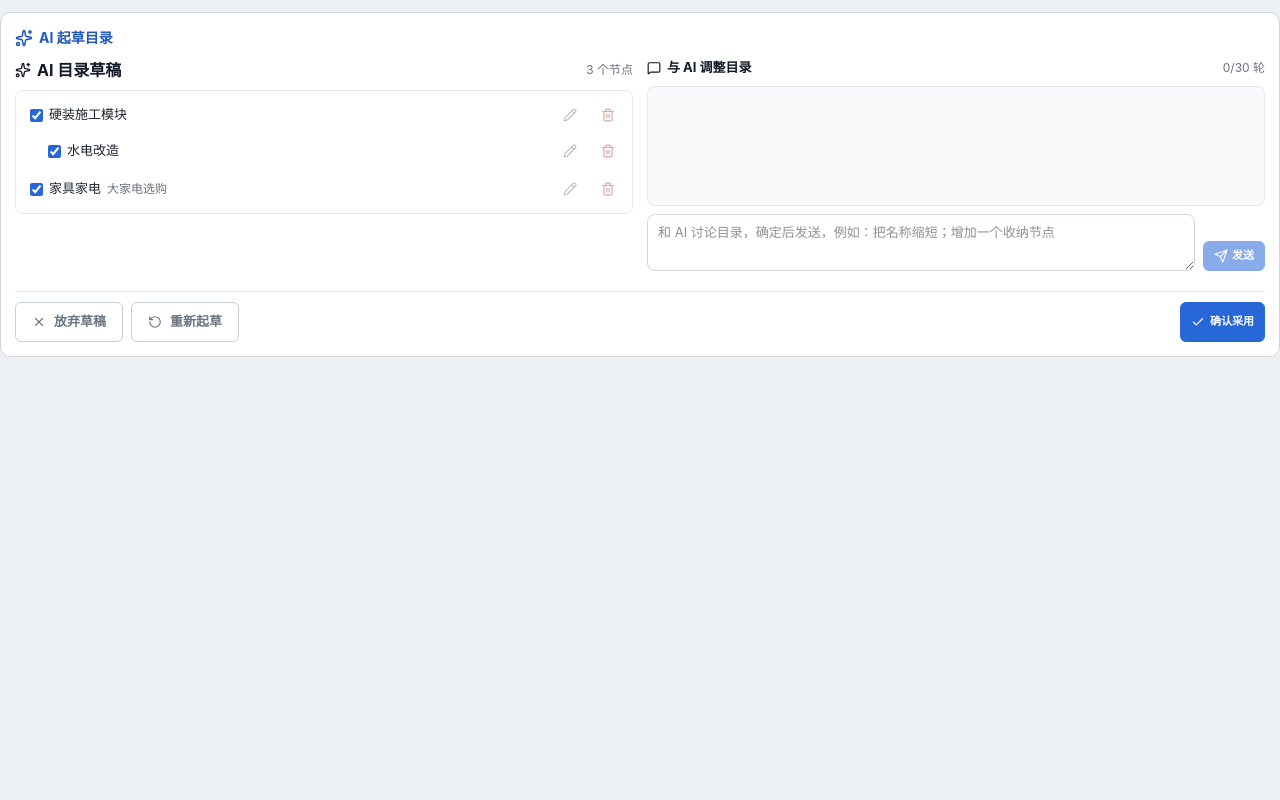
Test: DraftPanel › sends a chat message via the messages endpoint and confirms the draft
Type "把名称缩短" into the text box with placeholder "和 AI 讨论目录，确定后发送，例如：把名称缩短；增加一个收纳节点" at (921, 242), box [647,214,1195,270]
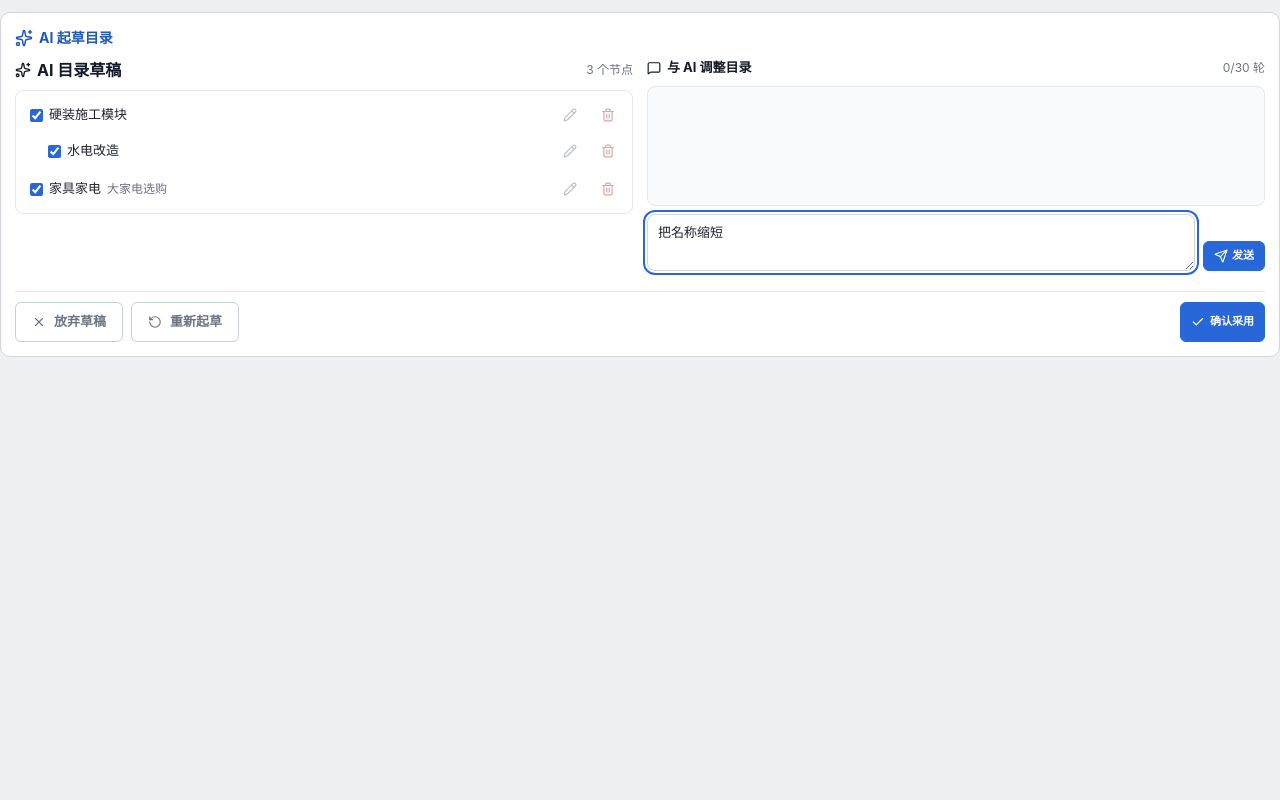
Click the button "发送" at (1234, 256), box [1203,240,1265,270]
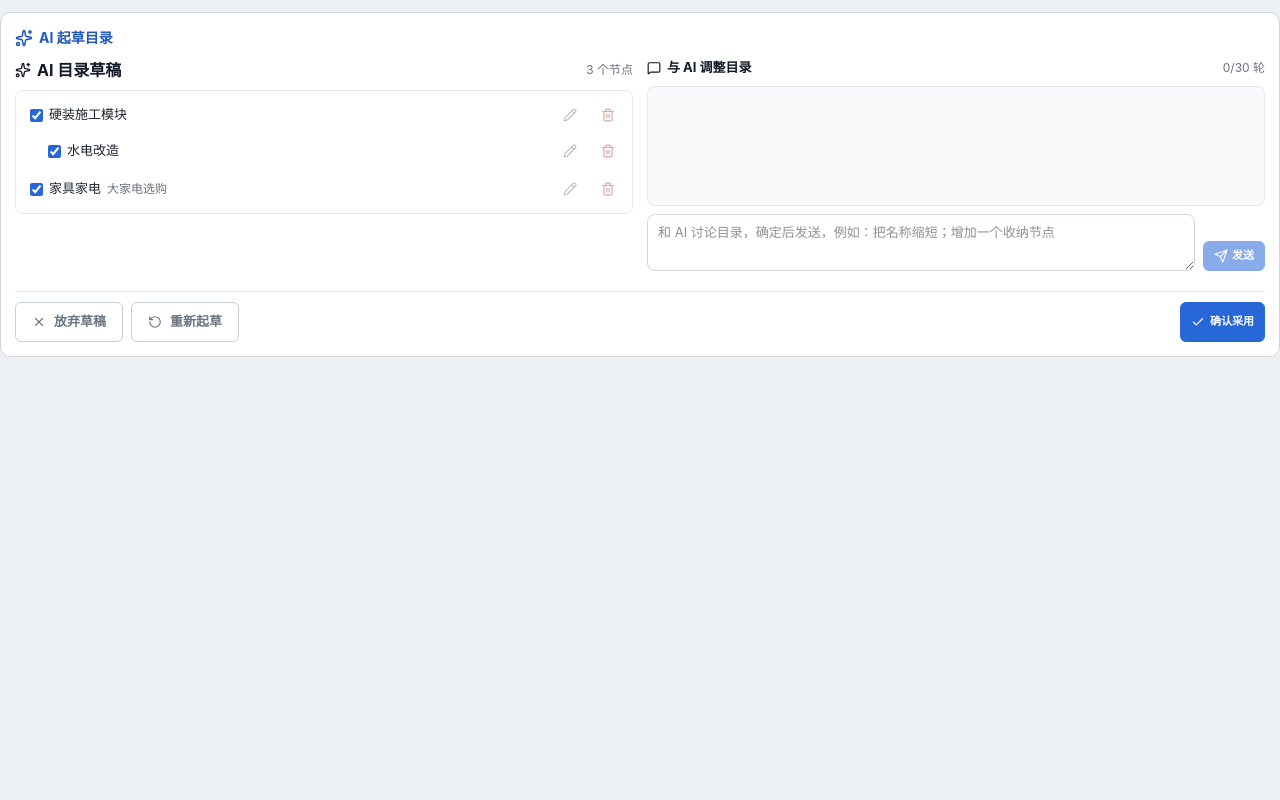
Click the button "确认采用" at (1222, 322), box [1180,302,1265,342]
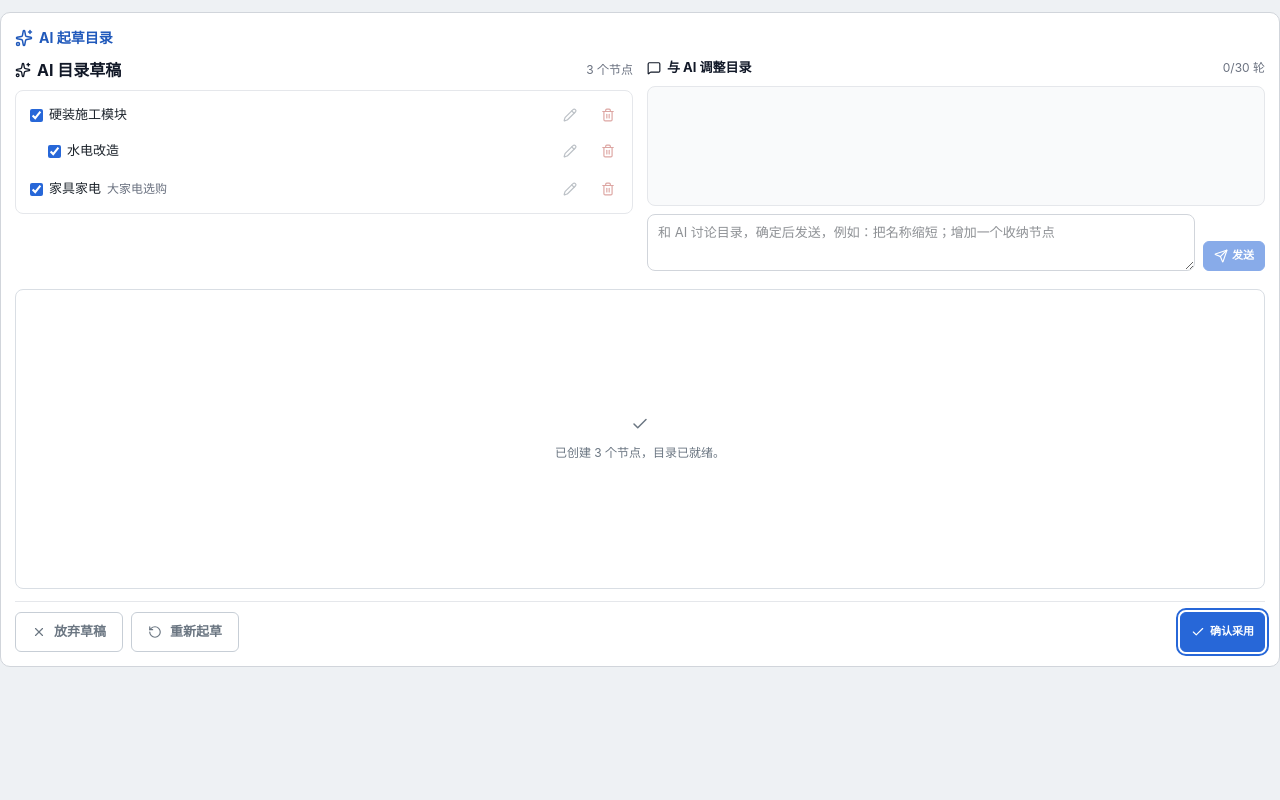
Expected: the text "已创建 3 个节点，目录已就绪。" is shown, [555,443,725,462]
